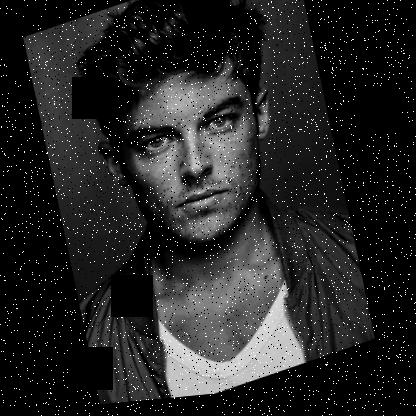Male: (80, 44, 302, 279)
